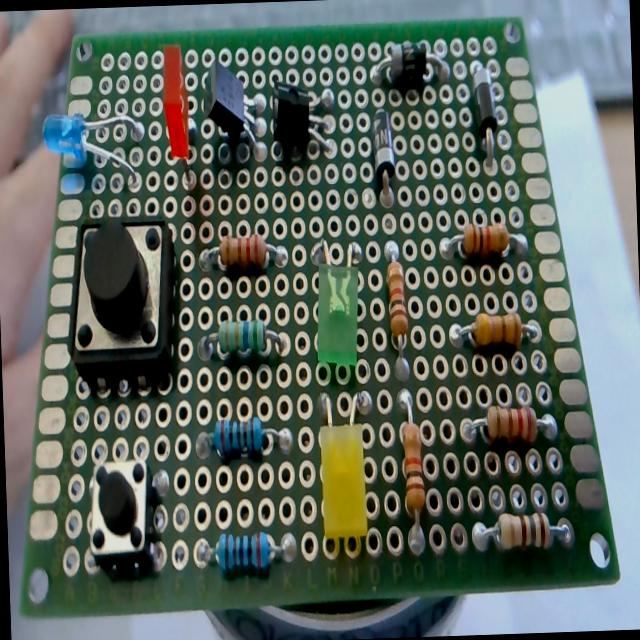diode: (366, 34, 454, 99), (467, 52, 506, 180), (366, 100, 403, 210)
led: (304, 378, 380, 557), (29, 92, 151, 198), (306, 226, 371, 377), (156, 36, 201, 192)
resistor: (389, 386, 432, 560), (180, 522, 302, 580), (466, 500, 580, 560), (455, 398, 559, 462), (442, 296, 543, 360), (188, 408, 296, 464), (437, 211, 532, 274), (192, 311, 294, 366), (380, 237, 416, 388), (197, 228, 290, 277)
switch: (63, 208, 179, 390), (78, 446, 168, 578)
transistor: (269, 64, 339, 168), (200, 57, 268, 163)
